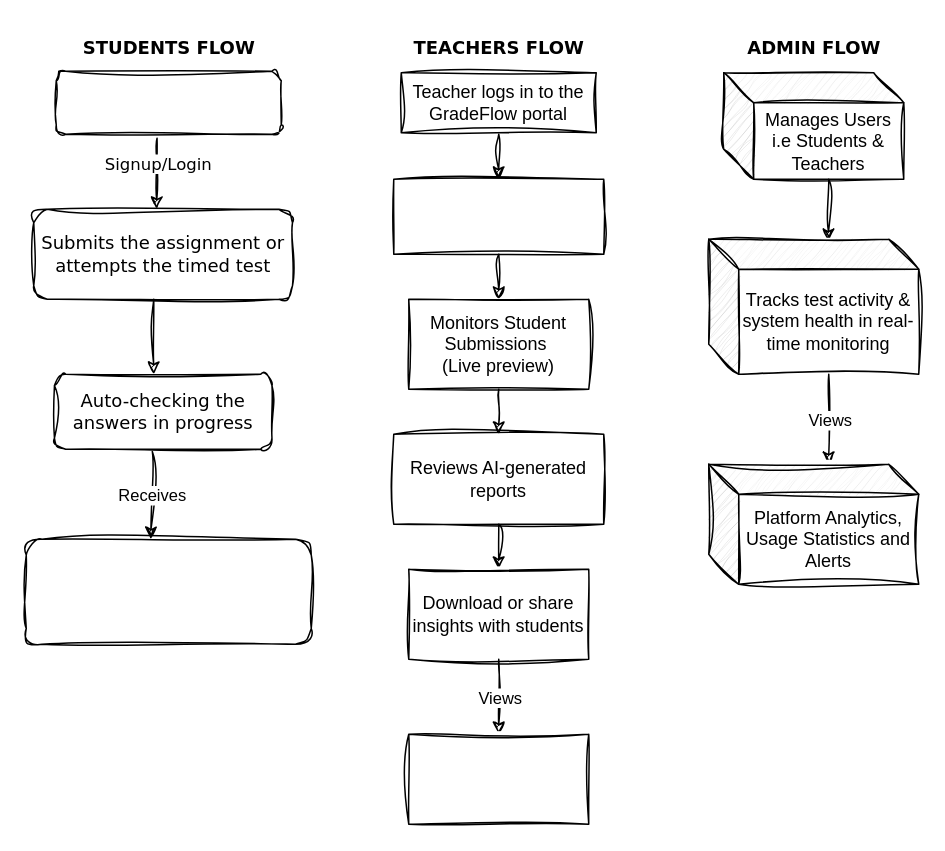
This 945x851 diagram has some shape labels left out. The shapes that lost their labels are listed below. From the top down, each one's centre as x and y in pixels, then its label:
At (168,102): "Student logs in to the GradeFlow portal".
At (498,216): "Create tests or uploads evaluation rubrics".
At (168,591): "Score Strengths Personalized Feedback Suggestions for improvement".
At (498,778): "Class-wide Analytics to adjust teaching".
